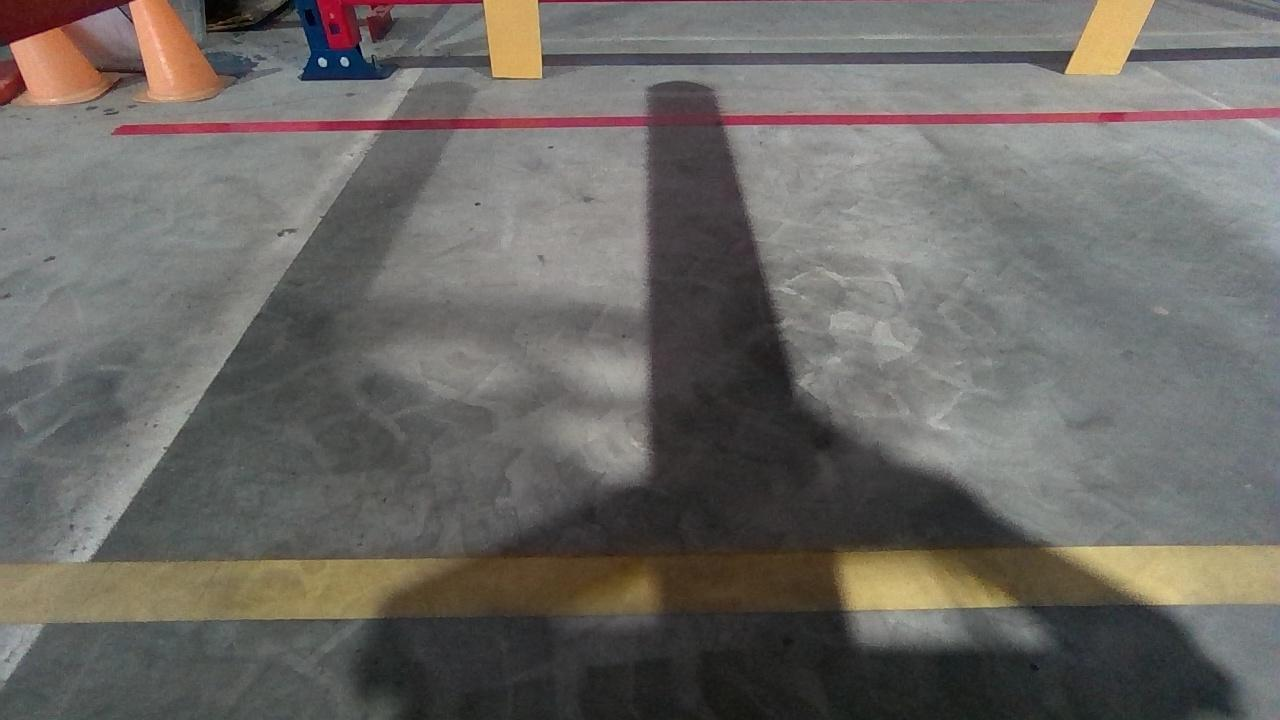orange_strip: (1063, 0, 1155, 74), (482, 0, 543, 78)
red_line: (118, 108, 1279, 132)
yellow_line: (0, 540, 1280, 620)
